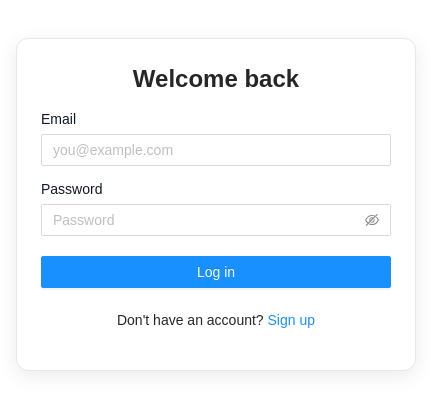
test Login component › test shows validation errors on submit with empty fields
This screenshot has width=433, height=414.
What coordinates should you click on to do the following:
click the button "Log in"
I would click on:
 (216, 272)
Its box is left=41, top=256, right=391, bottom=288.
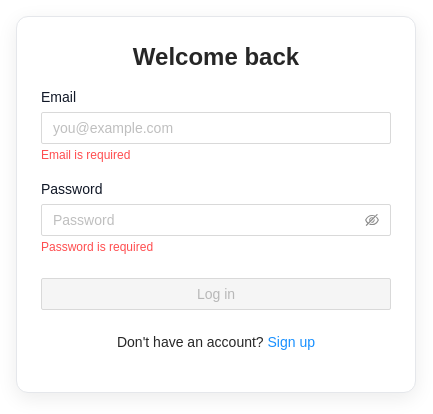
Check: the text "Email is required" is shown, box left=41, top=148, right=130, bottom=162
Check: the text "Password is required" is shown, box left=41, top=240, right=153, bottom=254
